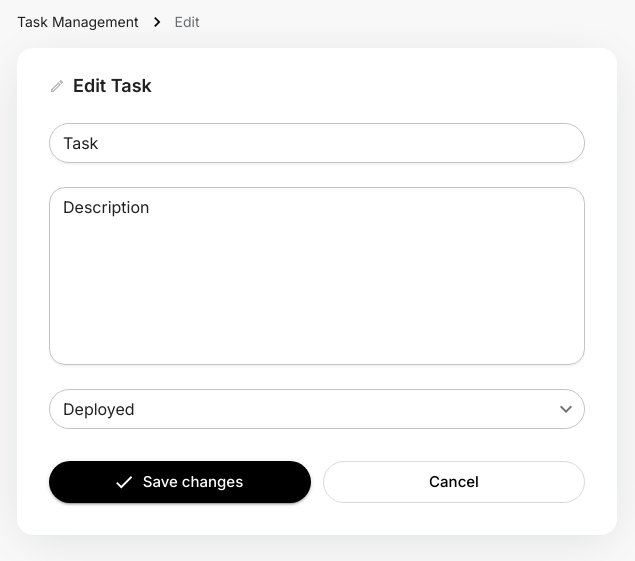
available status options › for "deployed" status
Click the dropdown at [99, 409], box [63,399,135,419]
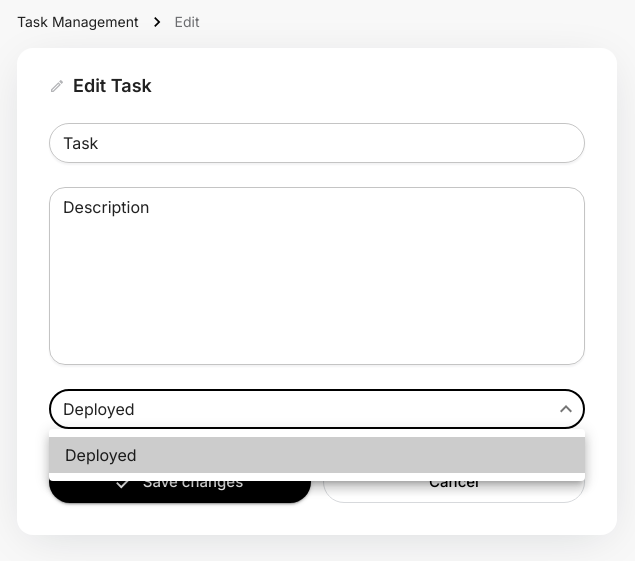
Expected: the option with test id "option-deployed" is shown, [49,437,585,473]
